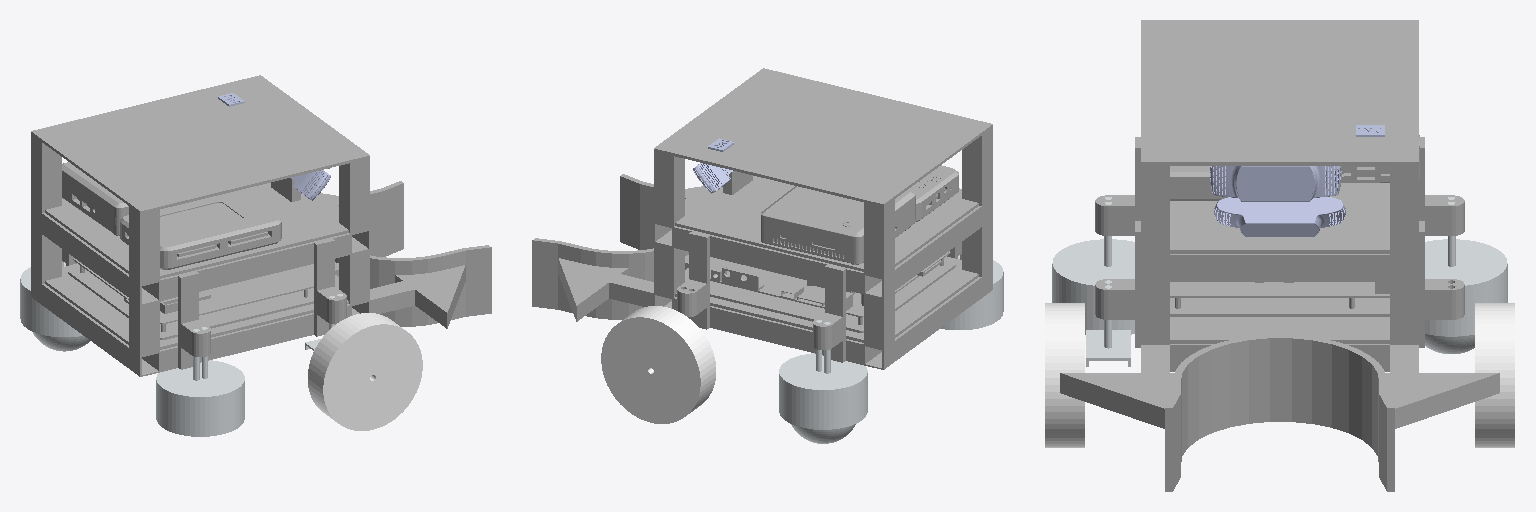
The robot description file, URDF, robot "Al profile 개선":
<?xml version="1.0" encoding="utf-8"?>
<!-- This URDF was automatically created by SolidWorks to URDF Exporter! Originally created by [author] ([email redacted]) 
     Commit Version: 1.5.1-0-g916b5db  Build Version: 1.5.7152.31018
     For more information, please see http://wiki.ros.org/sw_urdf_exporter -->
<robot
  name="Al profile 개선">
  <link
    name="base_link">
    <inertial>
      <origin
        xyz="-0.10528 -0.091997 -0.067082"
        rpy="0 0 0" />
      <mass
        value="2.7531" />
      <inertia
        ixx="0.0065612"
        ixy="-4.3391E-07"
        ixz="7.9314E-06"
        iyy="0.0057253"
        iyz="-4.291E-07"
        izz="0.01163" />
    </inertial>
    <visual>
      <origin
        xyz="0 0 0"
        rpy="0 0 0" />
      <geometry>
        <mesh
          filename="package://Al profile 개선/meshes/base_link.STL" />
      </geometry>
      <material
        name="">
        <color
          rgba="0.75294 0.75294 0.75294 1" />
      </material>
    </visual>
    <collision>
      <origin
        xyz="0 0 0"
        rpy="0 0 0" />
      <geometry>
        <mesh
          filename="package://Al profile 개선/meshes/base_link.STL" />
      </geometry>
    </collision>
  </link>
  <link
    name="LFS">
    <inertial>
      <origin
        xyz="6.9389E-18 -0.041313 -0.0045"
        rpy="0 0 0" />
      <mass
        value="0.019514" />
      <inertia
        ixx="7.6084E-06"
        ixy="3.211E-23"
        ixz="-8.2575E-22"
        iyy="4.2404E-06"
        iyz="-1.1866E-21"
        izz="6.5552E-06" />
    </inertial>
    <visual>
      <origin
        xyz="0 0 0"
        rpy="0 0 0" />
      <geometry>
        <mesh
          filename="package://Al profile 개선/meshes/LFS.STL" />
      </geometry>
      <material
        name="">
        <color
          rgba="0.89804 0.91765 0.92941 1" />
      </material>
    </visual>
    <collision>
      <origin
        xyz="0 0 0"
        rpy="0 0 0" />
      <geometry>
        <mesh
          filename="package://Al profile 개선/meshes/LFS.STL" />
      </geometry>
    </collision>
  </link>
  <joint
    name="LFS"
    type="continuous">
    <origin
      xyz="-0.0365 0.036 -0.091297"
      rpy="1.5708 0 1.5708" />
    <parent
      link="base_link" />
    <child
      link="LFS" />
    <axis
      xyz="0 1 0" />
  </joint>
  <link
    name="LFW">
    <inertial>
      <origin
        xyz="0.03275 -0.055 0.0085"
        rpy="0 0 0" />
      <mass
        value="0.28979" />
      <inertia
        ixx="0.00043983"
        ixy="-4.6524E-37"
        ixz="-1.5018E-37"
        iyy="0.00024165"
        iyz="3.024E-39"
        izz="0.00024165" />
    </inertial>
    <visual>
      <origin
        xyz="0 0 0"
        rpy="0 0 0" />
      <geometry>
        <mesh
          filename="package://Al profile 개선/meshes/LFW.STL" />
      </geometry>
      <material
        name="">
        <color
          rgba="1 1 1 1" />
      </material>
    </visual>
    <collision>
      <origin
        xyz="0 0 0"
        rpy="0 0 0" />
      <geometry>
        <mesh
          filename="package://Al profile 개선/meshes/LFW.STL" />
      </geometry>
    </collision>
  </link>
  <joint
    name="LFW"
    type="continuous">
    <origin
      xyz="0 -0.014801 0"
      rpy="0 0 0" />
    <parent
      link="LFS" />
    <child
      link="LFW" />
    <axis
      xyz="0 1 0" />
    <limit
      effort="3.1"
      velocity="7" />
  </joint>
  <link
    name="RFS">
    <inertial>
      <origin
        xyz="-2.7756E-17 -0.041313 -0.0045"
        rpy="0 0 0" />
      <mass
        value="0.019514" />
      <inertia
        ixx="7.6084E-06"
        ixy="-9.5897E-22"
        ixz="7.6546E-23"
        iyy="4.2404E-06"
        iyz="1.7607E-21"
        izz="6.5552E-06" />
    </inertial>
    <visual>
      <origin
        xyz="0 0 0"
        rpy="0 0 0" />
      <geometry>
        <mesh
          filename="package://Al profile 개선/meshes/RFS.STL" />
      </geometry>
      <material
        name="">
        <color
          rgba="0.89804 0.91765 0.92941 1" />
      </material>
    </visual>
    <collision>
      <origin
        xyz="0 0 0"
        rpy="0 0 0" />
      <geometry>
        <mesh
          filename="package://Al profile 개선/meshes/RFS.STL" />
      </geometry>
    </collision>
  </link>
  <joint
    name="RFS"
    type="continuous">
    <origin
      xyz="-0.0365 -0.224 -0.091297"
      rpy="1.5708 0 1.5708" />
    <parent
      link="base_link" />
    <child
      link="RFS" />
    <axis
      xyz="0 1 0" />
  </joint>
  <link
    name="RFW">
    <inertial>
      <origin
        xyz="-0.03275 -0.055 0.0085"
        rpy="0 0 0" />
      <mass
        value="0.28979" />
      <inertia
        ixx="0.00043983"
        ixy="-4.6524E-37"
        ixz="5.1371E-37"
        iyy="0.00024165"
        iyz="3.024E-39"
        izz="0.00024165" />
    </inertial>
    <visual>
      <origin
        xyz="0 0 0"
        rpy="0 0 0" />
      <geometry>
        <mesh
          filename="package://Al profile 개선/meshes/RFW.STL" />
      </geometry>
      <material
        name="">
        <color
          rgba="1 1 1 1" />
      </material>
    </visual>
    <collision>
      <origin
        xyz="0 0 0"
        rpy="0 0 0" />
      <geometry>
        <mesh
          filename="package://Al profile 개선/meshes/RFW.STL" />
      </geometry>
    </collision>
  </link>
  <joint
    name="RFW"
    type="continuous">
    <origin
      xyz="0 -0.014799 0"
      rpy="0 0 0" />
    <parent
      link="RFS" />
    <child
      link="RFW" />
    <axis
      xyz="0 1 0" />
    <limit
      effort="3.1"
      velocity="7" />
  </joint>
  <link
    name="LBS">
    <inertial>
      <origin
        xyz="6.9389E-18 -0.067035 -0.0045"
        rpy="0 0 0" />
      <mass
        value="0.36367" />
      <inertia
        ixx="0.00028006"
        ixy="2.2657E-20"
        ixz="-5.7229E-20"
        iyy="0.00043029"
        iyz="-3.0931E-20"
        izz="0.0002799" />
    </inertial>
    <visual>
      <origin
        xyz="0 0 0"
        rpy="0 0 0" />
      <geometry>
        <mesh
          filename="package://Al profile 개선/meshes/LBS.STL" />
      </geometry>
      <material
        name="">
        <color
          rgba="0.89804 0.91765 0.92941 1" />
      </material>
    </visual>
    <collision>
      <origin
        xyz="0 0 0"
        rpy="0 0 0" />
      <geometry>
        <mesh
          filename="package://Al profile 개선/meshes/LBS.STL" />
      </geometry>
    </collision>
  </link>
  <joint
    name="LBS"
    type="continuous">
    <origin
      xyz="-0.1865 0.036 -0.091297"
      rpy="1.5708 0 1.5708" />
    <parent
      link="base_link" />
    <child
      link="LBS" />
    <axis
      xyz="0 1 0" />
  </joint>
  <link
    name="LBW">
    <inertial>
      <origin
        xyz="0 0 -0.0045"
        rpy="0 0 0" />
      <mass
        value="0.4849" />
      <inertia
        ixx="0.0002376"
        ixy="0"
        ixz="0"
        iyy="0.0002376"
        iyz="0"
        izz="0.0002376" />
    </inertial>
    <visual>
      <origin
        xyz="0 0 0"
        rpy="0 0 0" />
      <geometry>
        <mesh
          filename="package://Al profile 개선/meshes/LBW.STL" />
      </geometry>
      <material
        name="">
        <color
          rgba="0.89804 0.91765 0.92941 1" />
      </material>
    </visual>
    <collision>
      <origin
        xyz="0 0 0"
        rpy="0 0 0" />
      <geometry>
        <mesh
          filename="package://Al profile 개선/meshes/LBW.STL" />
      </geometry>
    </collision>
  </link>
  <joint
    name="LBW"
    type="continuous">
    <origin
      xyz="0 -0.0898 0"
      rpy="0 0 0" />
    <parent
      link="LBS" />
    <child
      link="LBW" />
    <axis
      xyz="0 0 1" />
    <limit
      effort="3.1"
      velocity="7" />
  </joint>
  <link
    name="RBS">
    <inertial>
      <origin
        xyz="0 -0.067035 -0.0045"
        rpy="0 0 0" />
      <mass
        value="0.36367" />
      <inertia
        ixx="0.00028006"
        ixy="-5.6302E-20"
        ixz="1.144E-19"
        iyy="0.00043029"
        iyz="-3.0931E-20"
        izz="0.0002799" />
    </inertial>
    <visual>
      <origin
        xyz="0 0 0"
        rpy="0 0 0" />
      <geometry>
        <mesh
          filename="package://Al profile 개선/meshes/RBS.STL" />
      </geometry>
      <material
        name="">
        <color
          rgba="0.89804 0.91765 0.92941 1" />
      </material>
    </visual>
    <collision>
      <origin
        xyz="0 0 0"
        rpy="0 0 0" />
      <geometry>
        <mesh
          filename="package://Al profile 개선/meshes/RBS.STL" />
      </geometry>
    </collision>
  </link>
  <joint
    name="RBS"
    type="continuous">
    <origin
      xyz="-0.1865 -0.224 -0.091297"
      rpy="1.5708 0 1.5708" />
    <parent
      link="base_link" />
    <child
      link="RBS" />
    <axis
      xyz="0 1 0" />
  </joint>
  <link
    name="RBW">
    <inertial>
      <origin
        xyz="0 0 -0.0045"
        rpy="0 0 0" />
      <mass
        value="0.4849" />
      <inertia
        ixx="0.0002376"
        ixy="0"
        ixz="0"
        iyy="0.0002376"
        iyz="0"
        izz="0.0002376" />
    </inertial>
    <visual>
      <origin
        xyz="0 0 0"
        rpy="0 0 0" />
      <geometry>
        <mesh
          filename="package://Al profile 개선/meshes/RBW.STL" />
      </geometry>
      <material
        name="">
        <color
          rgba="0.89804 0.91765 0.92941 1" />
      </material>
    </visual>
    <collision>
      <origin
        xyz="0 0 0"
        rpy="0 0 0" />
      <geometry>
        <mesh
          filename="package://Al profile 개선/meshes/RBW.STL" />
      </geometry>
    </collision>
  </link>
  <joint
    name="RBW"
    type="continuous">
    <origin
      xyz="0 -0.0898 0"
      rpy="0 0 0" />
    <parent
      link="RBS" />
    <child
      link="RBW" />
    <axis
      xyz="0 0 1" />
    <limit
      effort="3.1"
      velocity="7" />
  </joint>
  <link
    name="imu_link">
    <inertial>
      <origin
        xyz="0.011062 0.0085153 0.00096622"
        rpy="0 0 0" />
      <mass
        value="0.00070067" />
      <inertia
        ixx="1.798E-08"
        ixy="-5.1561E-11"
        ixz="-2.3337E-11"
        iyy="2.8868E-08"
        iyz="-5.7227E-12"
        izz="4.6383E-08" />
    </inertial>
    <visual>
      <origin
        xyz="0 0 0"
        rpy="0 0 0" />
      <geometry>
        <mesh
          filename="package://Al profile 개선/meshes/imu_link.STL" />
      </geometry>
      <material
        name="">
        <color
          rgba="0.79216 0.81961 0.93333 1" />
      </material>
    </visual>
    <collision>
      <origin
        xyz="0 0 0"
        rpy="0 0 0" />
      <geometry>
        <mesh
          filename="package://Al profile 개선/meshes/imu_link.STL" />
      </geometry>
    </collision>
  </link>
  <joint
    name="imu_link"
    type="fixed">
    <origin
      xyz="-0.033937 -0.036407 0.035203"
      rpy="0 0 1.5708" />
    <parent
      link="base_link" />
    <child
      link="imu_link" />
    <axis
      xyz="0 0 0" />
  </joint>
  <link
    name="fcam">
    <inertial>
      <origin
        xyz="-0.051729 0.061784 0.068723"
        rpy="0 0 0" />
      <mass
        value="0.043612" />
      <inertia
        ixx="4.2948E-06"
        ixy="-8.8579E-10"
        ixz="-1.0181E-09"
        iyy="2.2106E-05"
        iyz="2.1758E-08"
        izz="2.3571E-05" />
    </inertial>
    <visual>
      <origin
        xyz="0 0 0"
        rpy="0 0 0" />
      <geometry>
        <mesh
          filename="package://Al profile 개선/meshes/fcam.STL" />
      </geometry>
      <material
        name="">
        <color
          rgba="0.79216 0.81961 0.93333 1" />
      </material>
    </visual>
    <collision>
      <origin
        xyz="0 0 0"
        rpy="0 0 0" />
      <geometry>
        <mesh
          filename="package://Al profile 개선/meshes/fcam.STL" />
      </geometry>
    </collision>
  </link>
  <joint
    name="fcam"
    type="prismatic">
    <origin
      xyz="-0.069277 -0.045536 -0.04329"
      rpy="1.5708 0 1.5708" />
    <parent
      link="base_link" />
    <child
      link="fcam" />
    <axis
      xyz="1 0 0" />
    <limit
      lower="0"
      upper="0"
      effort="0"
      velocity="0" />
  </joint>
  <link
    name="bcam">
    <inertial>
      <origin
        xyz="0.019997 0.01129 0.0068148"
        rpy="0 0 0" />
      <mass
        value="0.043612" />
      <inertia
        ixx="4.2948E-06"
        ixy="-8.8548E-10"
        ixz="-1.0183E-09"
        iyy="2.2106E-05"
        iyz="2.1758E-08"
        izz="2.3571E-05" />
    </inertial>
    <visual>
      <origin
        xyz="0 0 0"
        rpy="0 0 0" />
      <geometry>
        <mesh
          filename="package://Al profile 개선/meshes/bcam.STL" />
      </geometry>
      <material
        name="">
        <color
          rgba="0.79216 0.81961 0.93333 1" />
      </material>
    </visual>
    <collision>
      <origin
        xyz="0 0 0"
        rpy="0 0 0" />
      <geometry>
        <mesh
          filename="package://Al profile 개선/meshes/bcam.STL" />
      </geometry>
    </collision>
  </link>
  <joint
    name="bcam"
    type="continuous">
    <origin
      xyz="-0.020898 -0.114 -0.020898"
      rpy="2.3562 0 1.5708" />
    <parent
      link="base_link" />
    <child
      link="bcam" />
    <axis
      xyz="0 0 1" />
  </joint>
  <link
    name="lide">
    <inertial>
      <origin
        xyz="-0.078493 0.74443 0.13345"
        rpy="0 0 0" />
      <mass
        value="0.073085" />
      <inertia
        ixx="1.9581E-05"
        ixy="-4.2839E-07"
        ixz="1.0393E-07"
        iyy="4.1418E-05"
        iyz="-9.4271E-09"
        izz="2.4125E-05" />
    </inertial>
    <visual>
      <origin
        xyz="0 0 0"
        rpy="0 0 0" />
      <geometry>
        <mesh
          filename="package://Al profile 개선/meshes/lide.STL" />
      </geometry>
      <material
        name="">
        <color
          rgba="0.79216 0.81961 0.93333 1" />
      </material>
    </visual>
    <collision>
      <origin
        xyz="0 0 0"
        rpy="0 0 0" />
      <geometry>
        <mesh
          filename="package://Al profile 개선/meshes/lide.STL" />
      </geometry>
    </collision>
  </link>
  <joint
    name="lide"
    type="fixed">
    <origin
      xyz="-0.10595 0.036835 -0.68449"
      rpy="1.5708 0 -0.0026238" />
    <parent
      link="base_link" />
    <child
      link="lide" />
    <axis
      xyz="0 0 0" />
  </joint>
</robot>

--- Facts derived from the render (not from the file) ---
The picture shows the robot from 3 angles, left to right: view 1: azimuth 30°, elevation 25°; view 2: azimuth 150°, elevation 25°; view 3: azimuth 270°, elevation 25°; orthographic projection.
Robot: Al profile 개선 — 13 links, 12 joints (9 continuous, 1 prismatic, 2 fixed); root link base_link; default pose: every joint at zero.
Visible links, largest first — view 1: base_link, RFW, RBS, LBS, bcam, LBW; view 2: base_link, LFW, LBS, RBS, bcam, LBW; view 3: base_link, LFW, RFW, LBS, RBS, fcam, bcam, RFS, LBW.
Boxes of the visible links, <box> form: base_link: <box>31,75,491,376</box>; RFW: <box>308,313,422,430</box>; RBS: <box>156,327,244,436</box>; LBS: <box>20,261,82,336</box>; bcam: <box>291,170,330,200</box>; LBW: <box>33,332,89,351</box>; base_link: <box>532,68,992,369</box>; LFW: <box>601,306,715,423</box>; LBS: <box>779,320,867,429</box>; RBS: <box>941,254,1003,329</box>; bcam: <box>693,163,732,193</box>; LBW: <box>791,424,855,443</box>; base_link: <box>1060,20,1499,491</box>; LFW: <box>1475,303,1514,447</box>; RFW: <box>1045,303,1084,447</box>; LBS: <box>1425,197,1507,336</box>; RBS: <box>1052,197,1134,334</box>; fcam: <box>1210,166,1341,201</box>; bcam: <box>1214,197,1345,236</box>; RFS: <box>1086,280,1130,366</box>; LBW: <box>1425,334,1474,353</box>.
Bounding box of the posed robot: 0.3983 × 0.3555 × 0.2533 m (x, y, z).
10 mesh visuals loaded from 13 distinct referenced files (10 binary STL); not drawn: 3 (reference not matched to a file when rendering).
